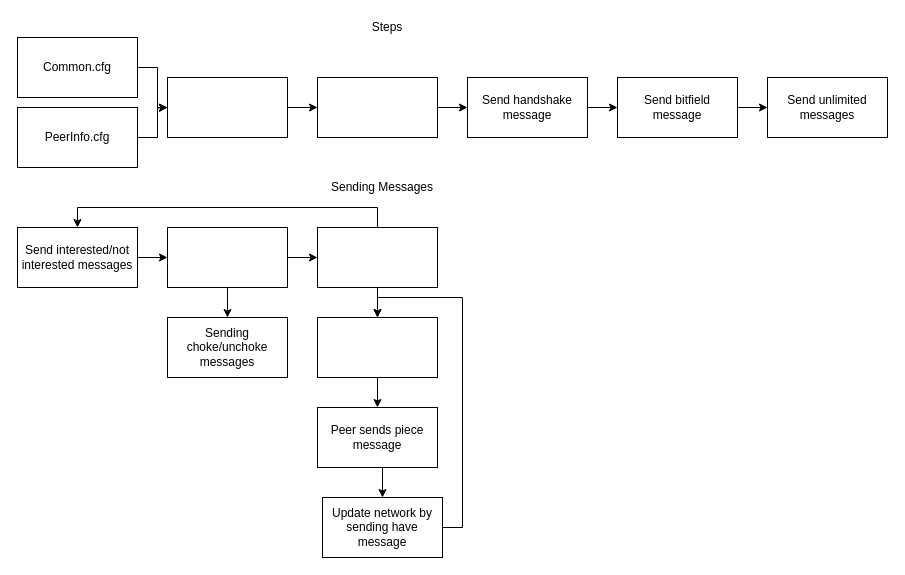
Some shapes in this 905 by 575 pixel diagram are drawn without their labels. The centre of each missing label's shape, as x and y in pixels:
Determine preferred neighbors: the point at 227,257
Establish Connection: the point at 377,107
P2P Program: the point at 227,107
Send request/piece messages: the point at 377,257
Unchoked peer sends request message for random file: the point at 377,347
